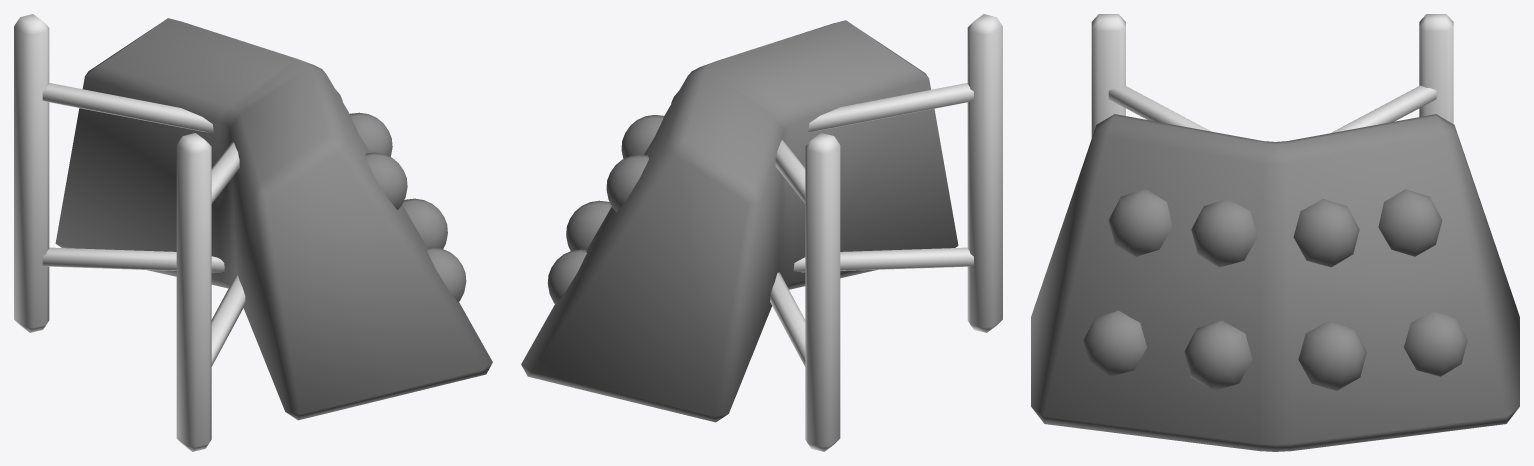
File: ram_metal.fbx
3 views of the same model, side by side, from view 1: azimuth 30°, elevation 25°; view 2: azimuth 150°, elevation 25°; view 3: azimuth 270°, elevation 25° (orthographic).
Visible parts, largest first — view 1: ram_metal; view 2: ram_metal; view 3: ram_metal.
Boxes of the visible parts, x1,y1,x2,y2 form: ram_metal: (14, 14, 492, 451); ram_metal: (521, 14, 1002, 451); ram_metal: (1031, 14, 1519, 451).
Size of the model in its own units: 216 by 189 by 269.
